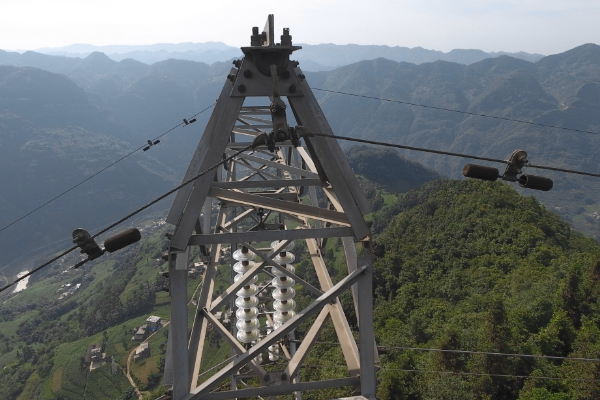damper: (458, 146, 557, 192), (139, 137, 162, 152)
damper_defect: (67, 223, 144, 275), (178, 116, 198, 129)
